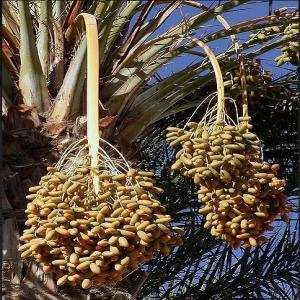palm tree: (2, 1, 298, 298)
